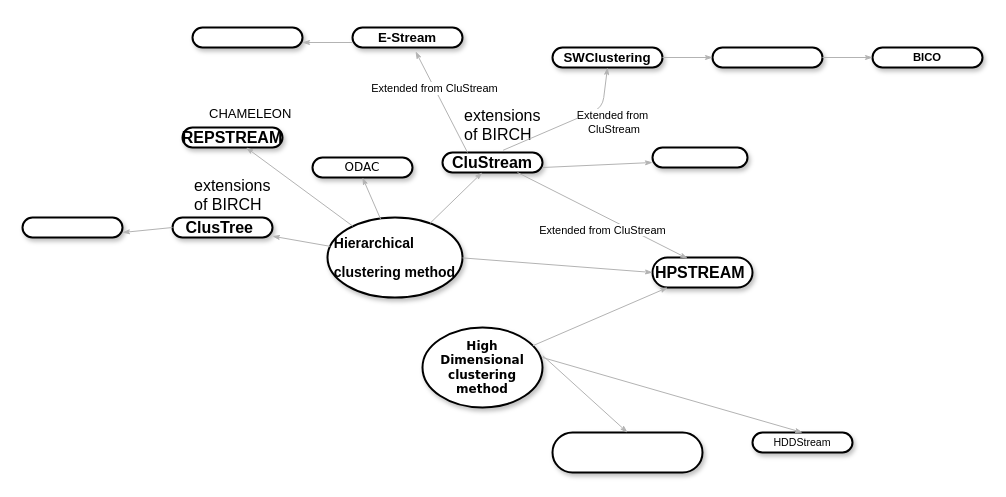
The diagram is 1006 pixels wide and 497 high, and some of its shapes have lost their labels. Here are the shapes that lost their labels. From the top down, the centre of each, then its label:
the point at 248,38: HUE-Stream
the point at 768,58: StreamKM ++
the point at 700,158: HCluStream
the point at 73,228: LiarTree
the point at 628,453: PreDeCon Stream
